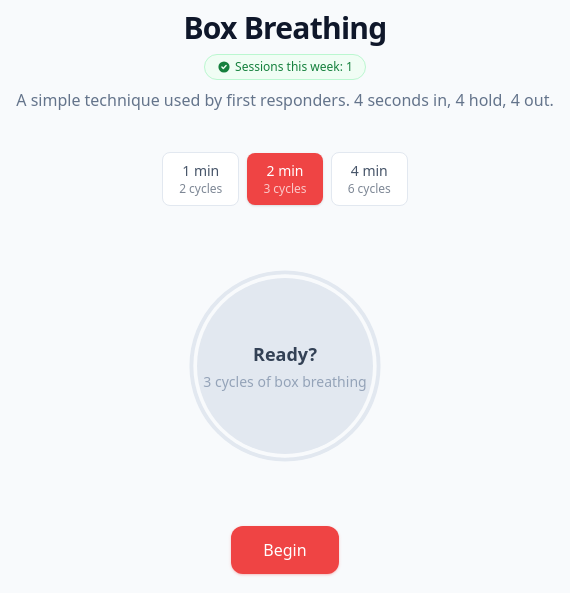
Test case: BreathingExercise › shows Start Again after completion
Click the button "Begin": (285, 550) top-left (231, 526), bottom-right (339, 574)
Wait 36000 ms
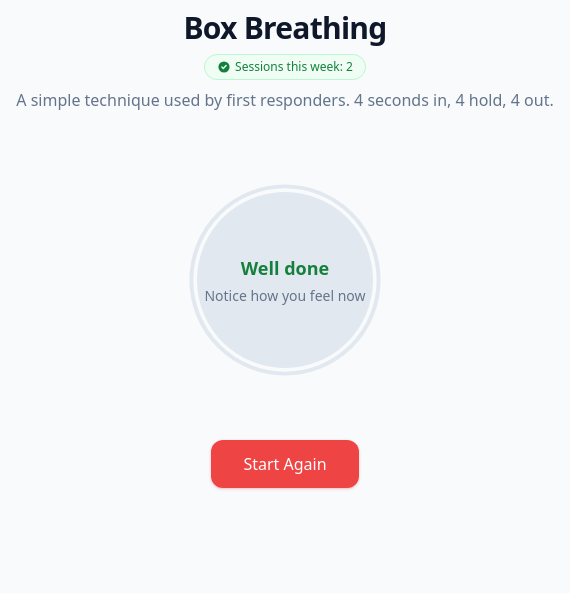
Result: the button "Start Again" is shown at top-left (211, 440), bottom-right (358, 488)
